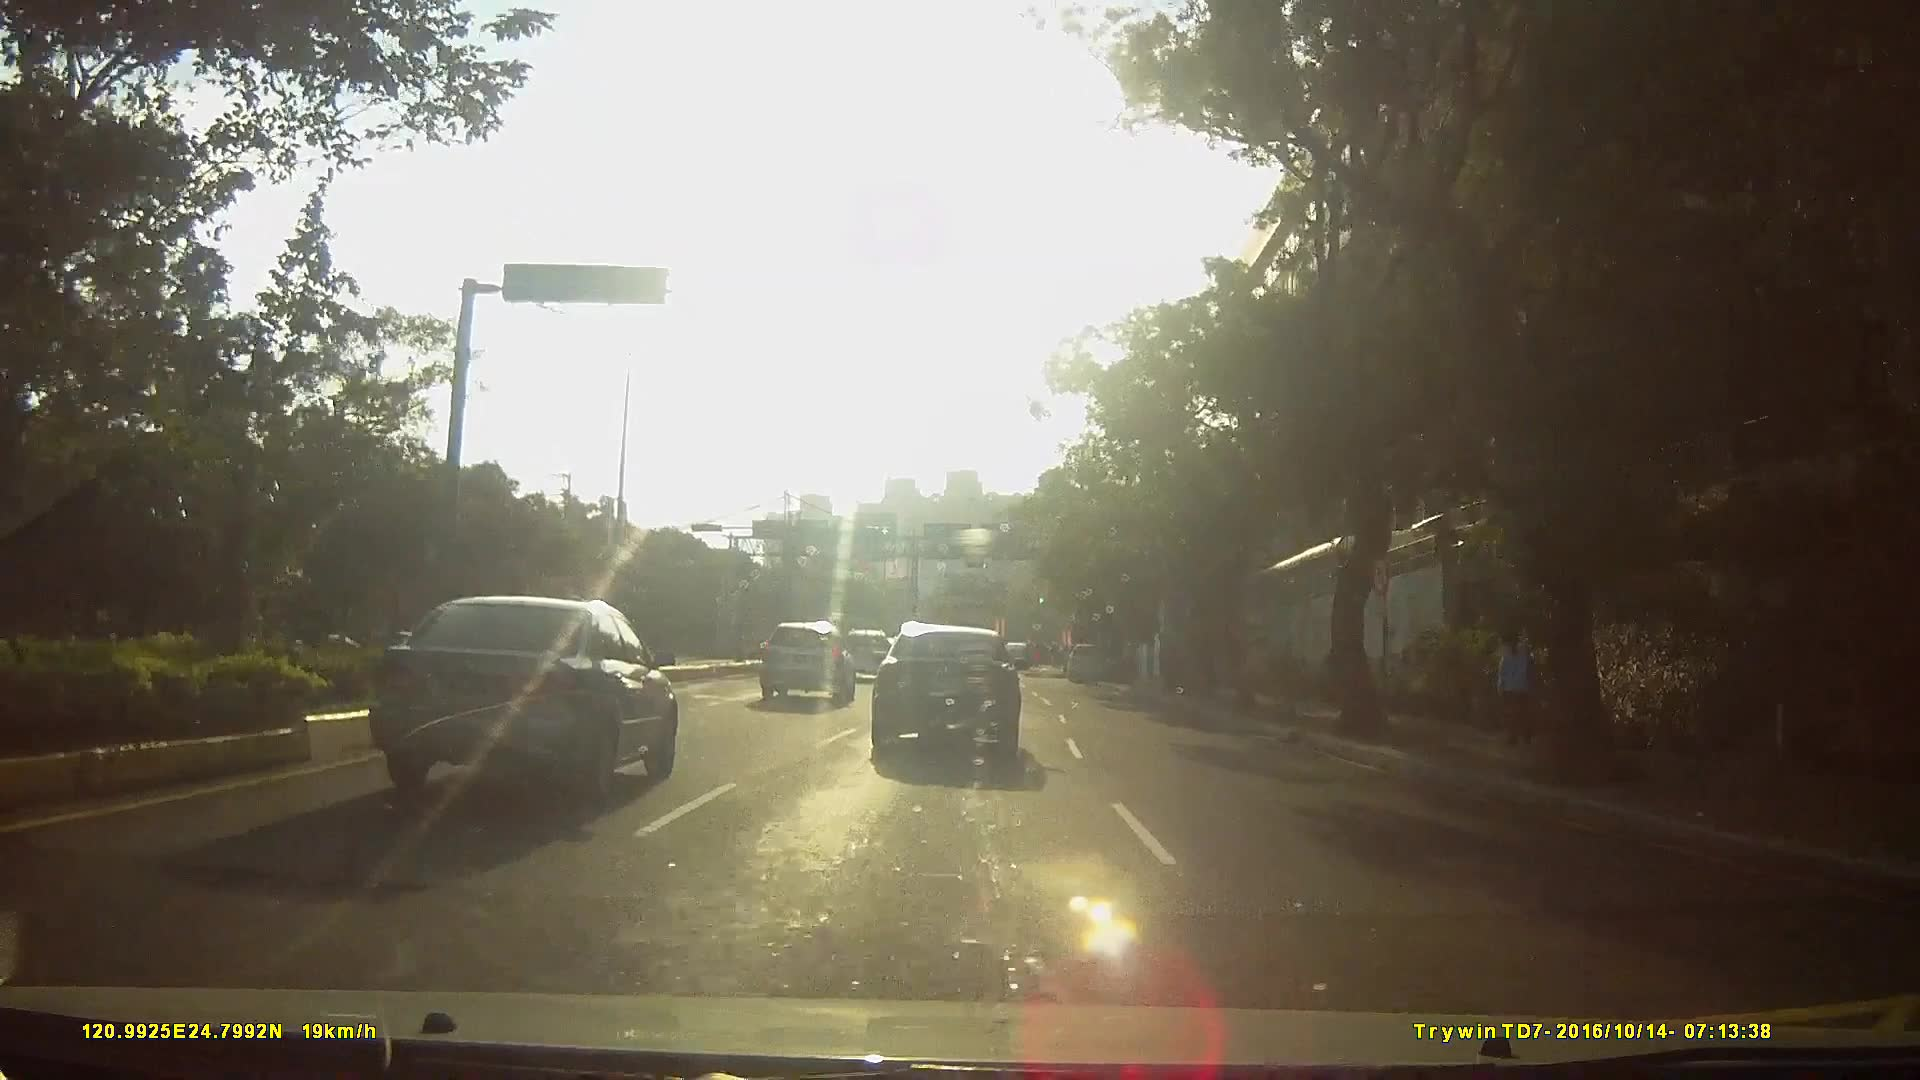pedestrian: (1492, 621, 1542, 748)
vehicle: (362, 585, 675, 799), (867, 616, 1041, 760), (758, 618, 858, 706), (841, 624, 895, 682), (1066, 636, 1115, 680)
